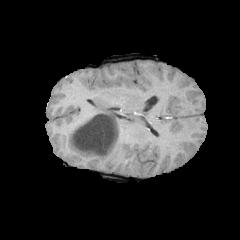glioma: (66, 103, 123, 165)
